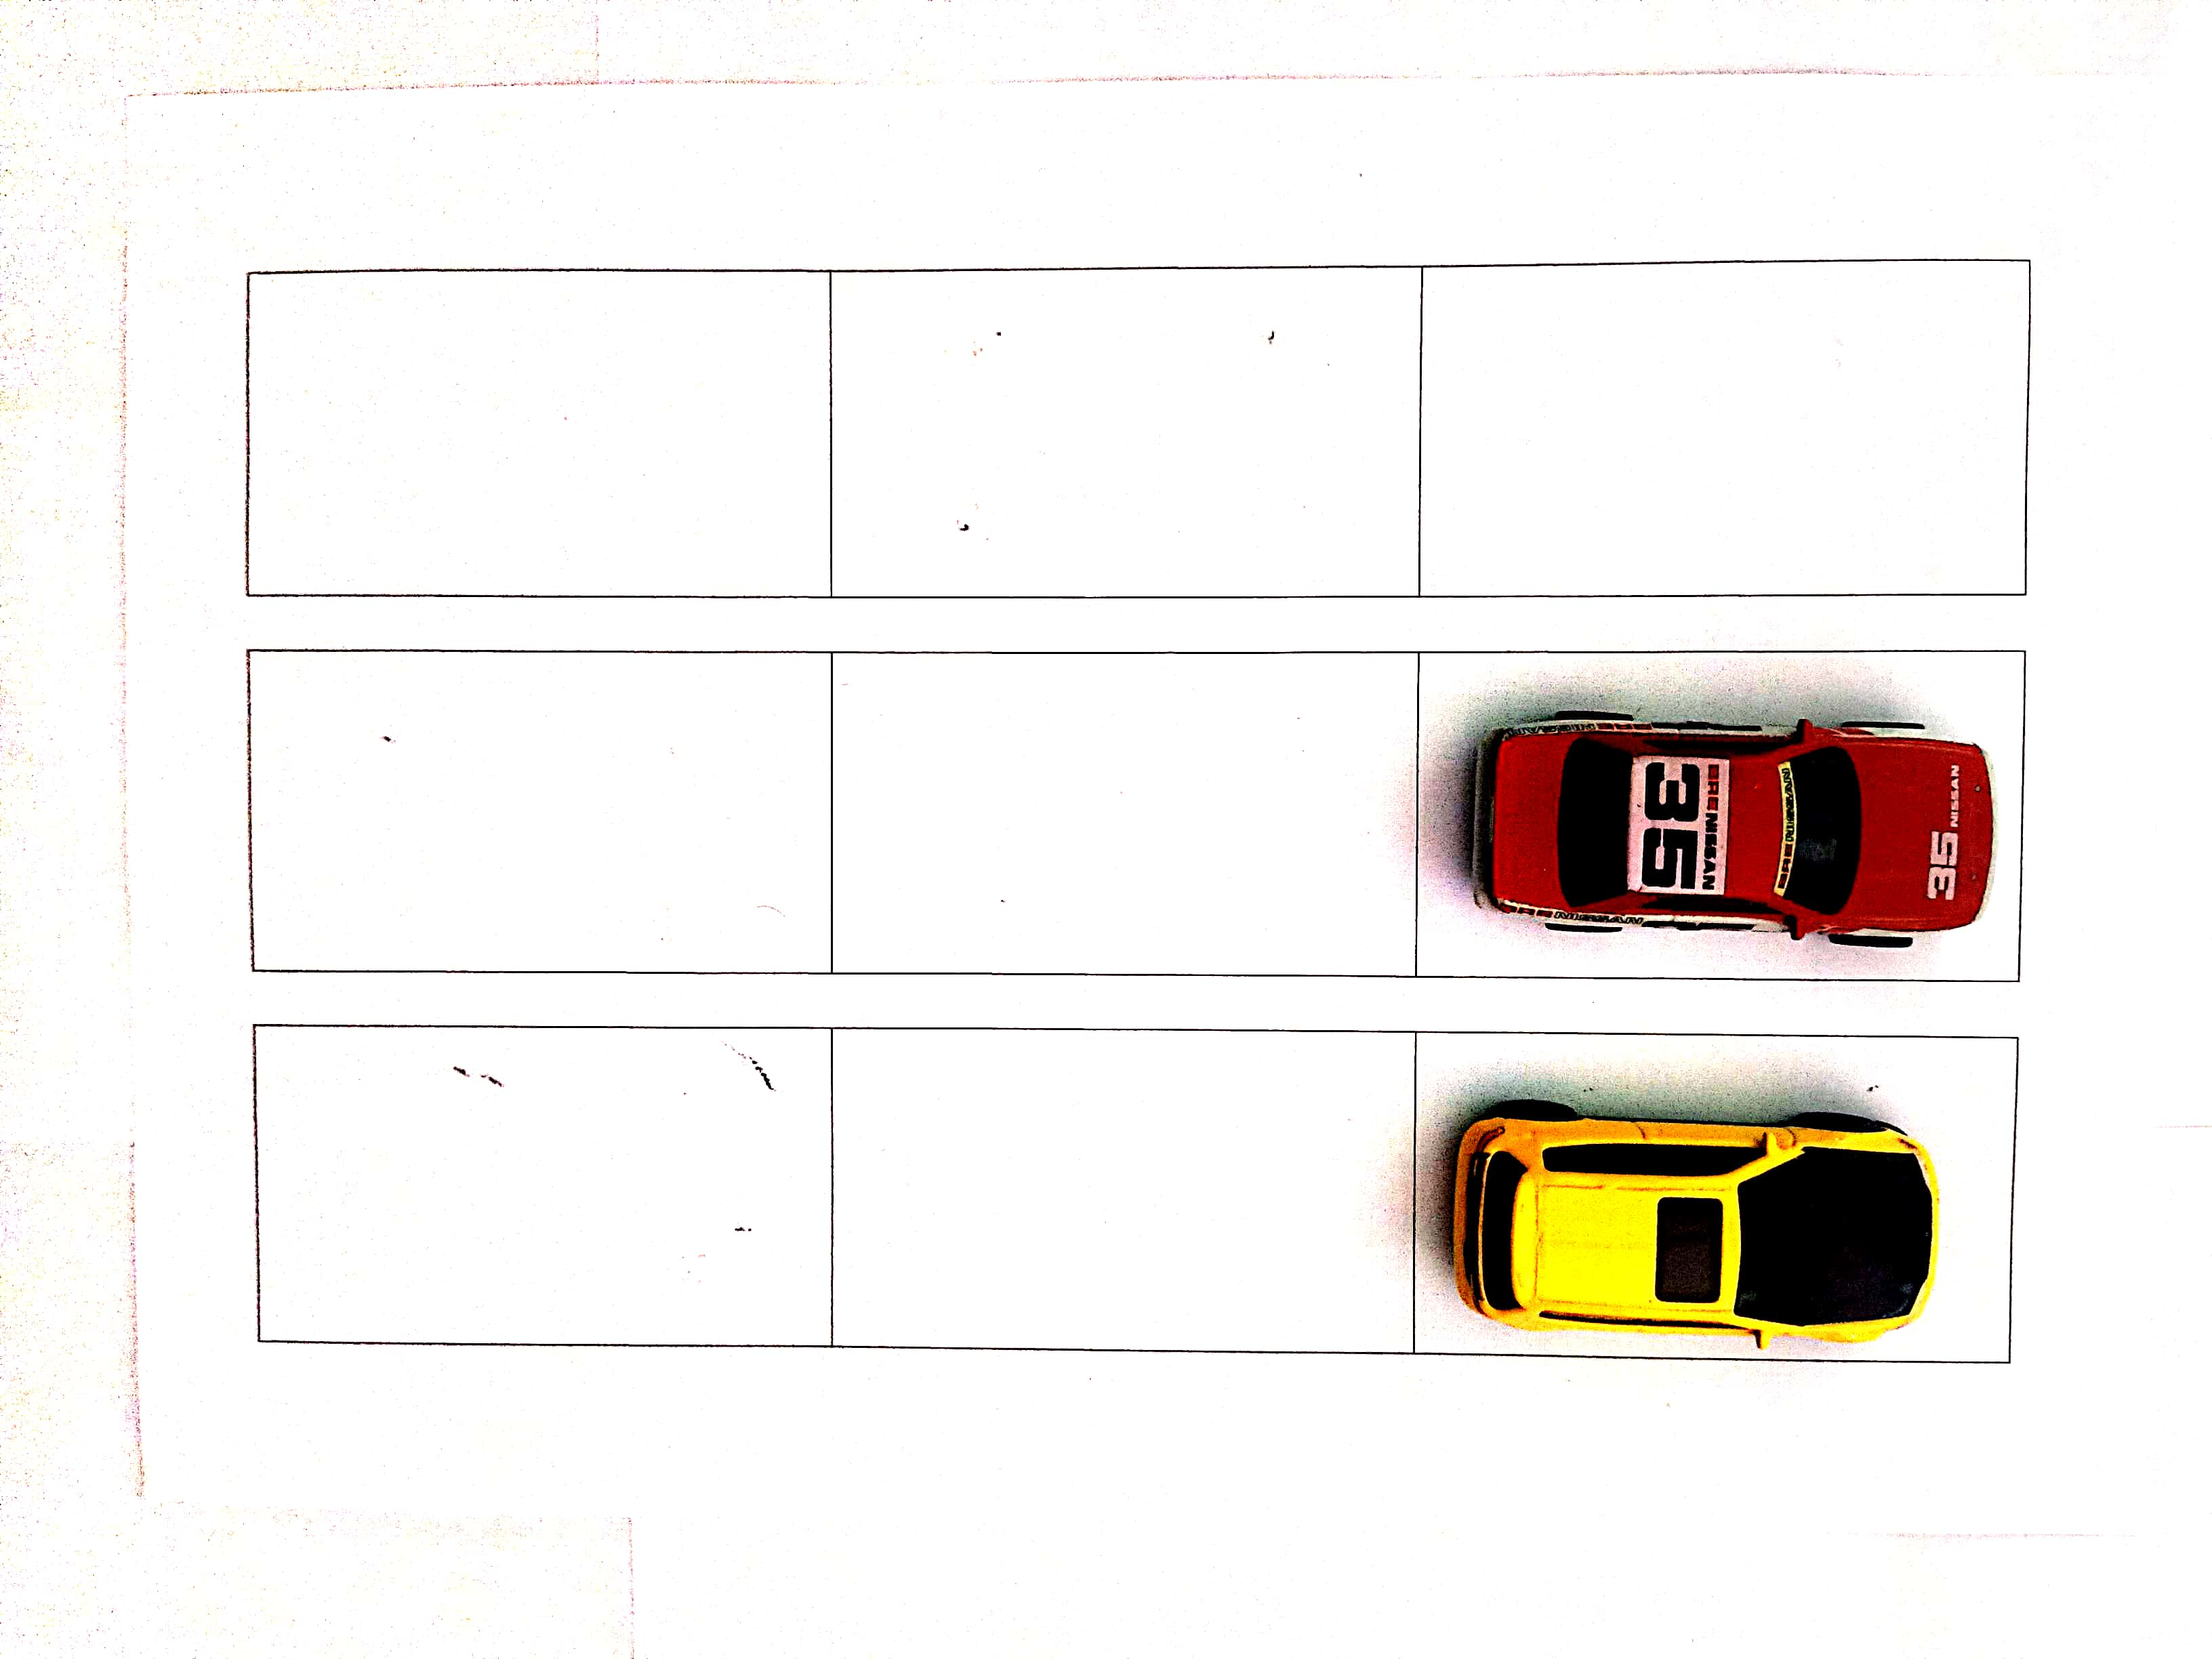Busy: (1421, 653, 2019, 979), (1421, 1039, 2013, 1356)
Free: (1423, 260, 2031, 596), (244, 274, 833, 594), (838, 274, 1423, 594), (833, 655, 1421, 967), (833, 1030, 1414, 1342), (253, 655, 829, 965), (253, 1030, 833, 1337)
